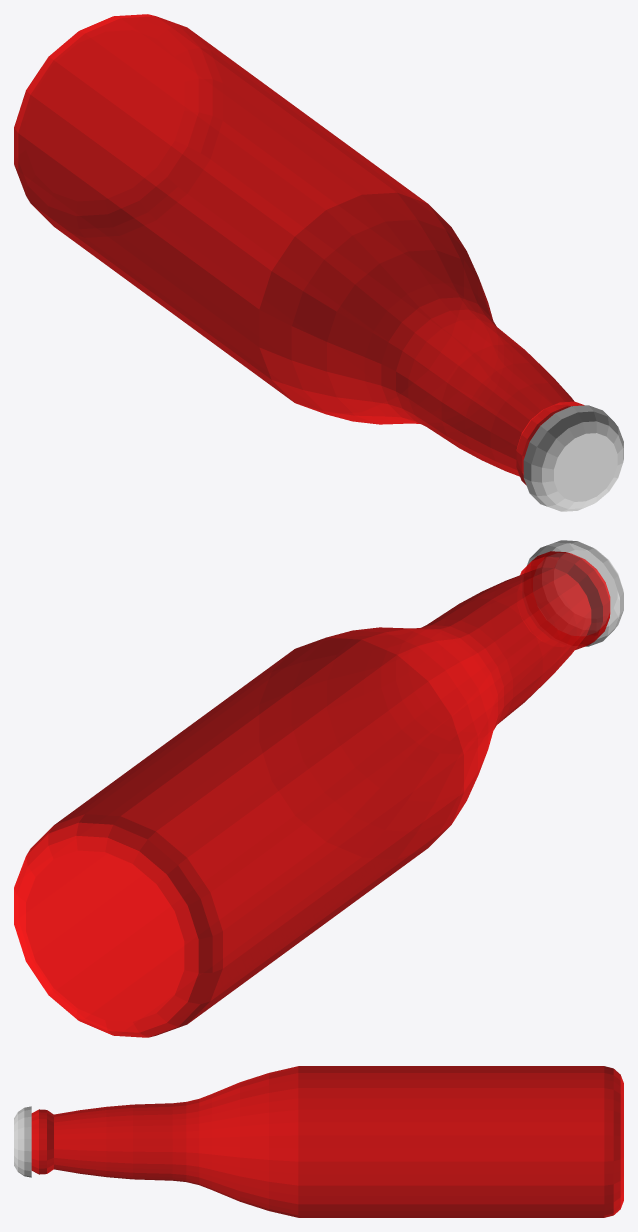
Rendered from model_scale.obj.
3 views of the same model, one above another, from view 1: azimuth 30°, elevation 25°; view 2: azimuth 150°, elevation 25°; view 3: azimuth 270°, elevation 25° (orthographic). The views are drawn at different scales.
Visible parts, largest first — view 1: mesh1_mesh1-geometry, mesh3_mesh3-geometry; view 2: mesh1_mesh1-geometry, mesh3_mesh3-geometry; view 3: mesh1_mesh1-geometry, mesh3_mesh3-geometry.
Boxes of the visible parts, x1=… form: mesh1_mesh1-geometry: x1=14, y1=14, x2=584, y2=485; mesh3_mesh3-geometry: x1=523, y1=405, x2=623, y2=511; mesh1_mesh1-geometry: x1=14, y1=551, x2=610, y2=1037; mesh3_mesh3-geometry: x1=527, y1=540, x2=623, y2=646; mesh1_mesh1-geometry: x1=31, y1=1066, x2=623, y2=1217; mesh3_mesh3-geometry: x1=14, y1=1106, x2=31, y2=1177.
Size of the model in its own units: 0.0339 by 0.0344 by 0.1379.
